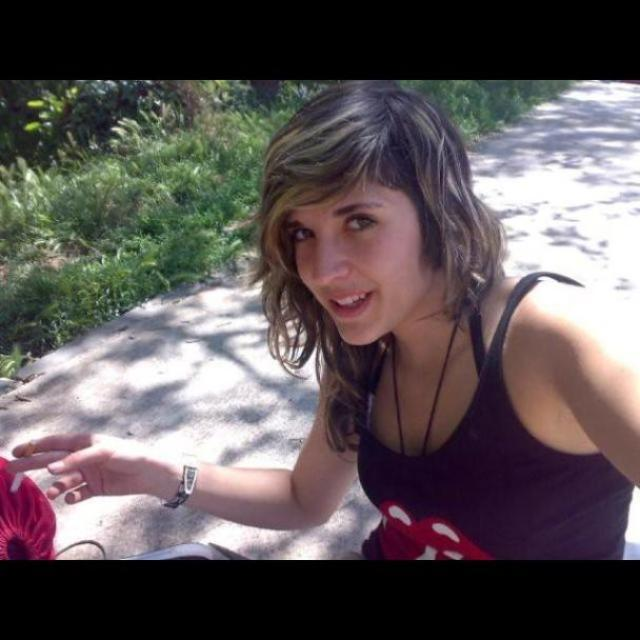rokok: (4, 436, 36, 496)
